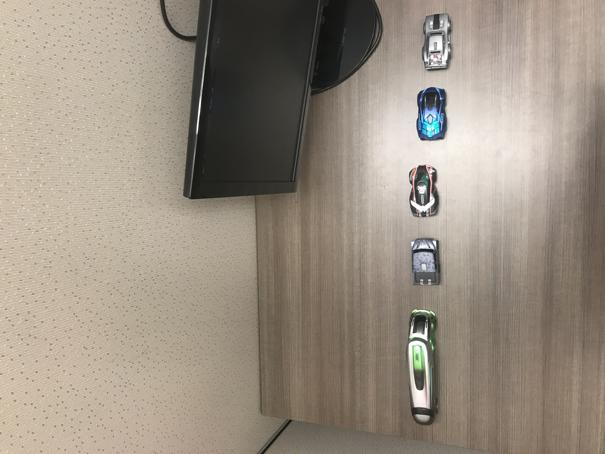Charger: (422, 11, 452, 70)
Freewheel: (406, 307, 441, 425)
MXT: (409, 238, 442, 286)
Shock: (415, 86, 448, 142)
Skull: (406, 165, 442, 217)
